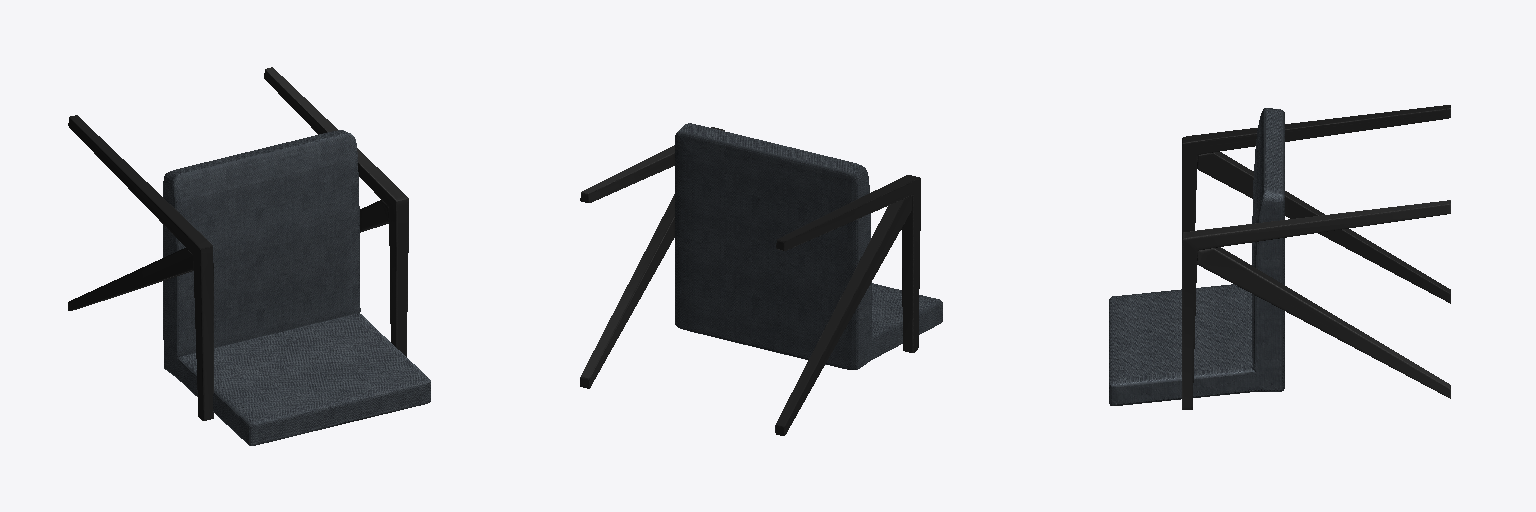
3 renders of one model, left to right at view 1: azimuth 30°, elevation 25°; view 2: azimuth 150°, elevation 25°; view 3: azimuth 270°, elevation 25°, orthographic.
Bounding box in the file's own units: 0.5464 × 0.5354 × 0.7745.
Materials: 1 (1 with a texture image).